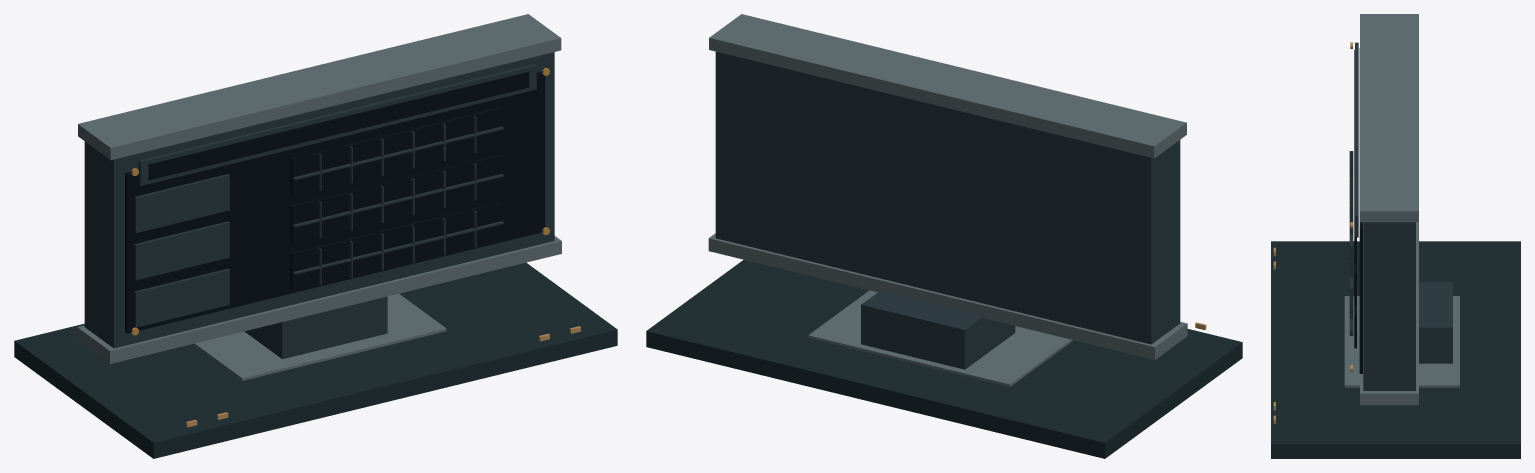
The model's file is splitflap_rivalry_d0_lod0.meshopt.glb.
3 views of the same model, side by side, from view 1: azimuth 30°, elevation 25°; view 2: azimuth 150°, elevation 25°; view 3: azimuth 270°, elevation 25° (orthographic). The views are drawn at different scales.
Parts seen in each view (by area): view 1: RIVALRY_STRUCTURE; view 2: RIVALRY_STRUCTURE; view 3: RIVALRY_STRUCTURE.
Boxes of the visible parts, bbox=[...] form: RIVALRY_STRUCTURE: bbox=[14, 14, 617, 458]; RIVALRY_STRUCTURE: bbox=[646, 14, 1242, 458]; RIVALRY_STRUCTURE: bbox=[1271, 14, 1520, 458].
Size of the model in its own units: 7.5 by 4.22 by 3.9.
